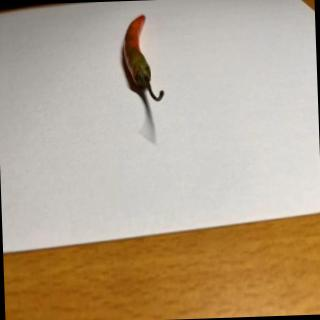Cabai Merah: (123, 14, 166, 103)
